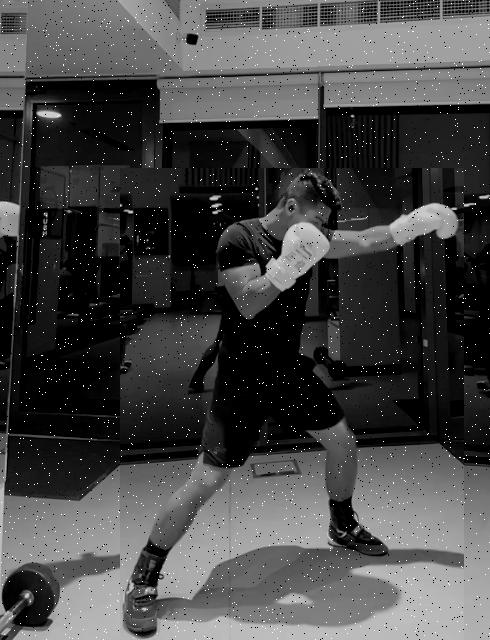punch: (120, 168, 464, 640)
